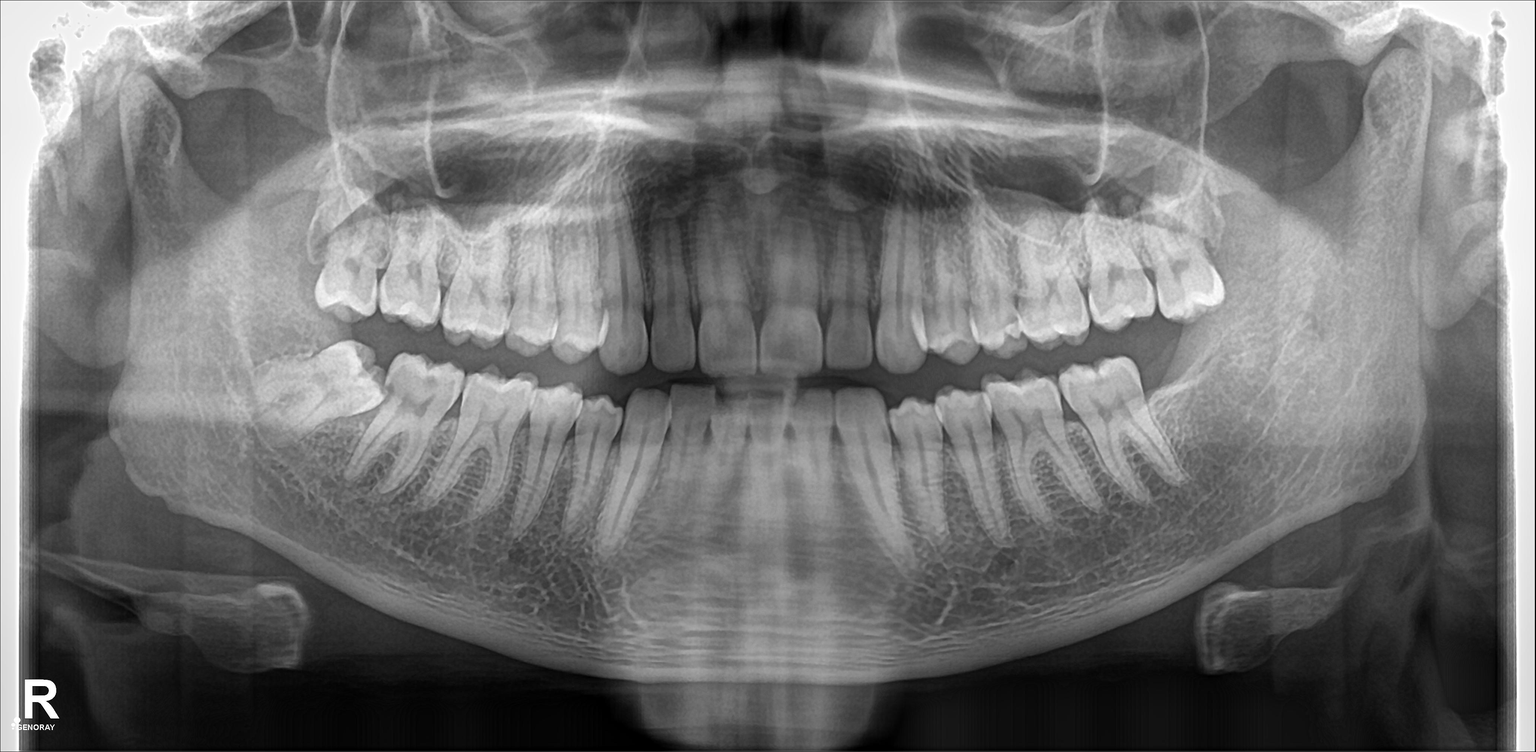Impacted Third Molar: (266, 339, 386, 411)
Missing Tooth: (1147, 335, 1199, 459)
